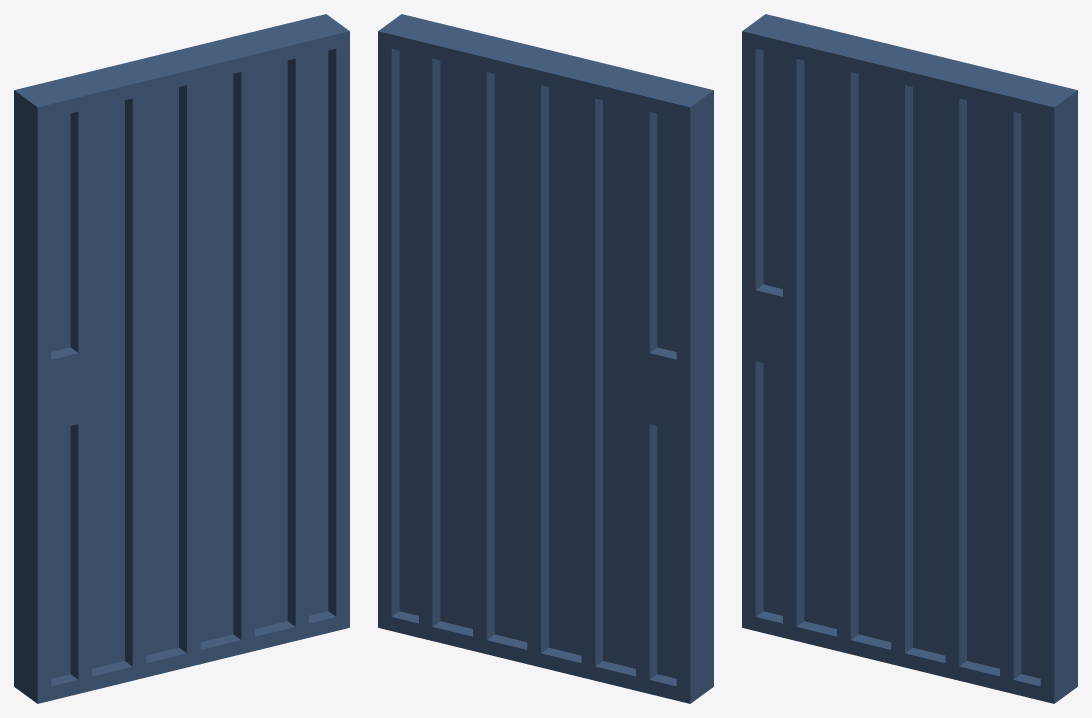
Rendered from portadoleoquenaosabefalaraieuprecisoadvinhar.fbx.
3 views of the same model, side by side, from view 1: azimuth 30°, elevation 25°; view 2: azimuth 150°, elevation 25°; view 3: azimuth 330°, elevation 25° (orthographic).
Visible parts, largest first — view 1: PORTA; view 2: PORTA; view 3: PORTA.
Boxes of the visible parts, <box> form: PORTA: <box>14,14,349,703</box>; PORTA: <box>378,14,713,703</box>; PORTA: <box>742,14,1077,703</box>.
Size of the model in its own units: 288 by 525 by 37.5.
